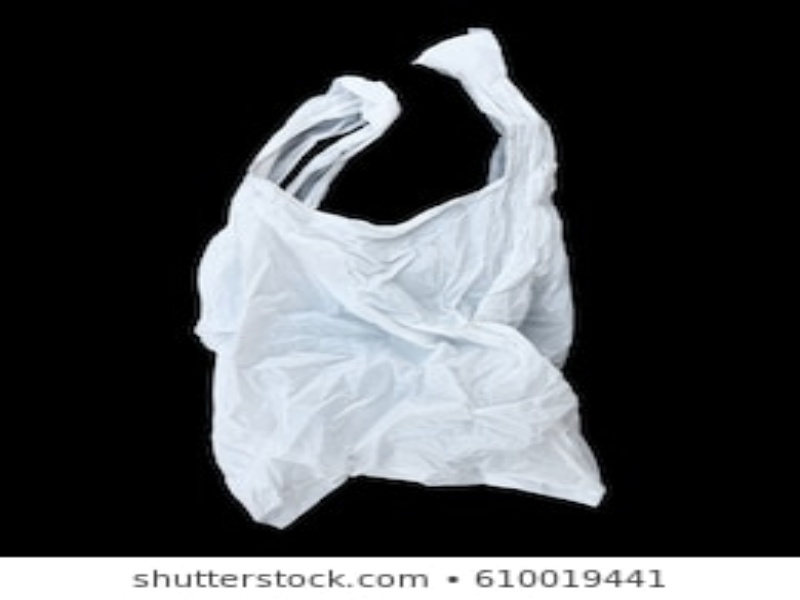plastic-bag: (185, 24, 632, 534)
